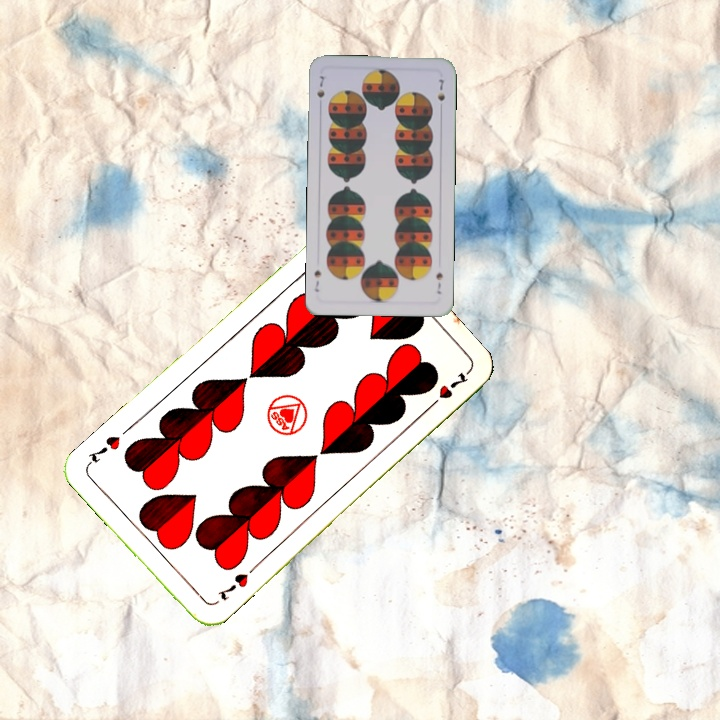H7: (213, 569, 251, 603)
S7: (313, 72, 327, 100), (432, 268, 445, 296)
